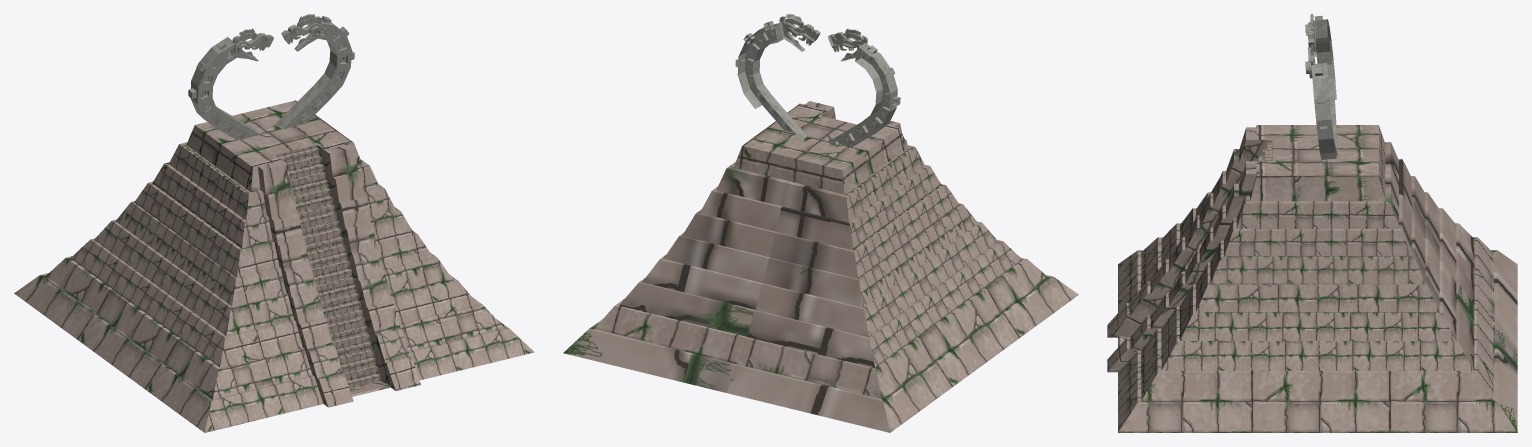
The model's file is Templo_Serpiente_Bicefala.glb.
3 views of the same model, side by side, from view 1: azimuth 30°, elevation 25°; view 2: azimuth 150°, elevation 25°; view 3: azimuth 270°, elevation 25° (orthographic). The views are drawn at different scales.
Visible parts, largest first — view 1: Templo_Base_Serpiente_Bicefala, Templo_Serpiente_Bicefala_Estatua; view 2: Templo_Base_Serpiente_Bicefala, Templo_Serpiente_Bicefala_Estatua; view 3: Templo_Base_Serpiente_Bicefala, Templo_Serpiente_Bicefala_Estatua.
Part boxes in pixels (<box>): Templo_Base_Serpiente_Bicefala: <box>14,100,534,432</box>; Templo_Serpiente_Bicefala_Estatua: <box>188,14,354,140</box>; Templo_Base_Serpiente_Bicefala: <box>563,101,1078,432</box>; Templo_Serpiente_Bicefala_Estatua: <box>735,14,900,146</box>; Templo_Base_Serpiente_Bicefala: <box>1107,125,1517,432</box>; Templo_Serpiente_Bicefala_Estatua: <box>1305,14,1337,166</box>.
Size of the model in its own units: 80.08 by 70.55 by 82.2.
2 materials, 2 textured.
